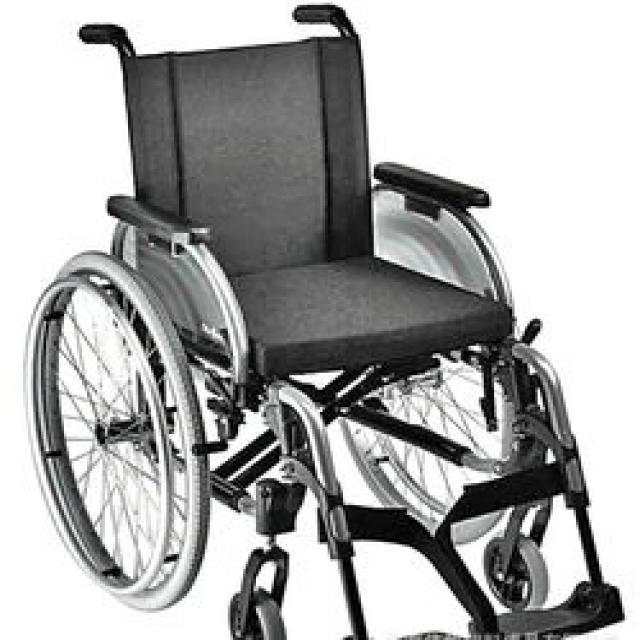wheelchair: (20, 2, 630, 638)
